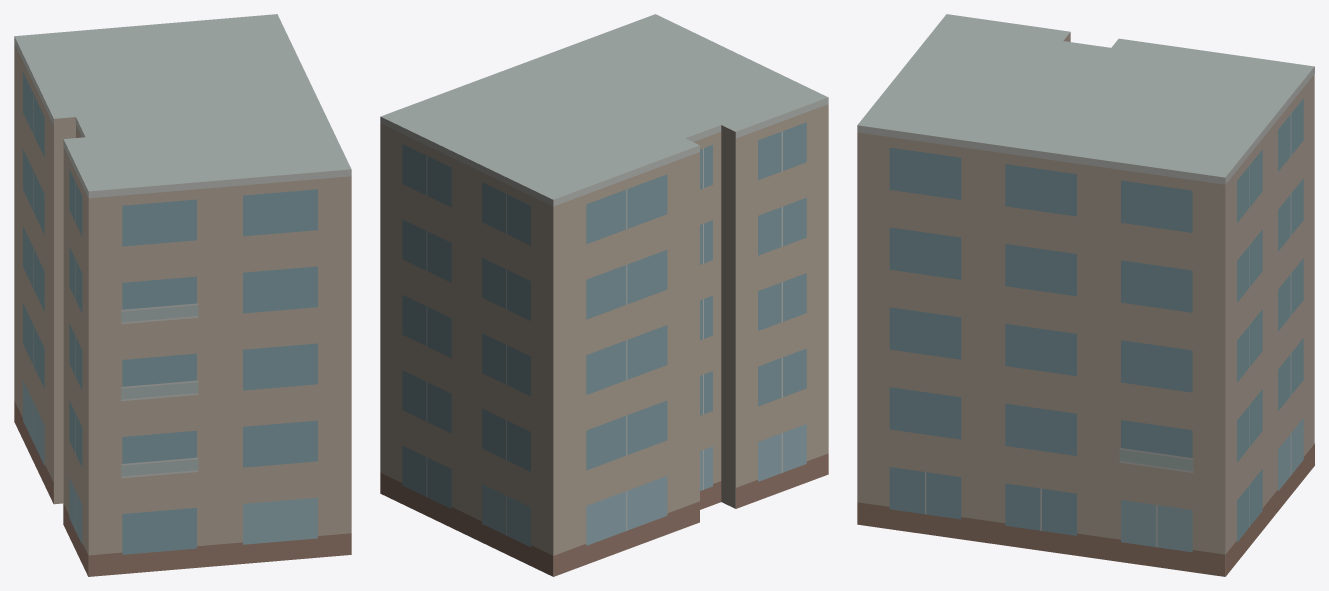
The model's file is survey-upis-32551114.glb.
3 views of the same model, side by side, from view 1: azimuth 30°, elevation 25°; view 2: azimuth 150°, elevation 25°; view 3: azimuth 270°, elevation 25° (orthographic). The views are drawn at different scales.
Visible parts, largest first — view 1: survey-upis-32551114.tmp; view 2: survey-upis-32551114.tmp; view 3: survey-upis-32551114.tmp.
Part boxes in pixels (x1,y1,x2,y2): survey-upis-32551114.tmp: [14, 14, 351, 576]; survey-upis-32551114.tmp: [380, 14, 828, 576]; survey-upis-32551114.tmp: [857, 14, 1314, 576].
Size of the model in its own units: 12.05 by 13.7 by 14.24.
